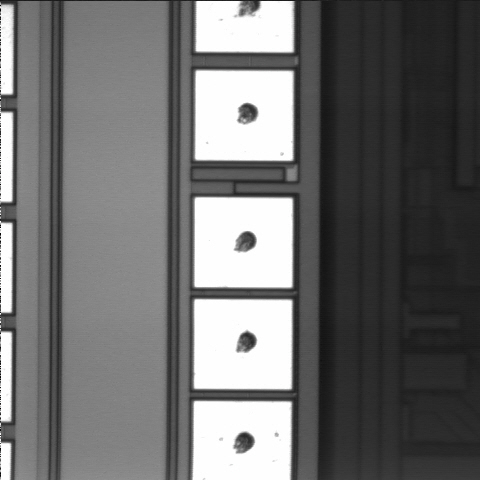pad: (194, 197, 293, 288), (195, 71, 293, 161), (194, 299, 292, 389)
